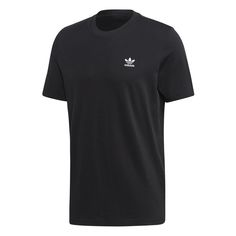adidas Originale: (118, 54, 141, 70)
